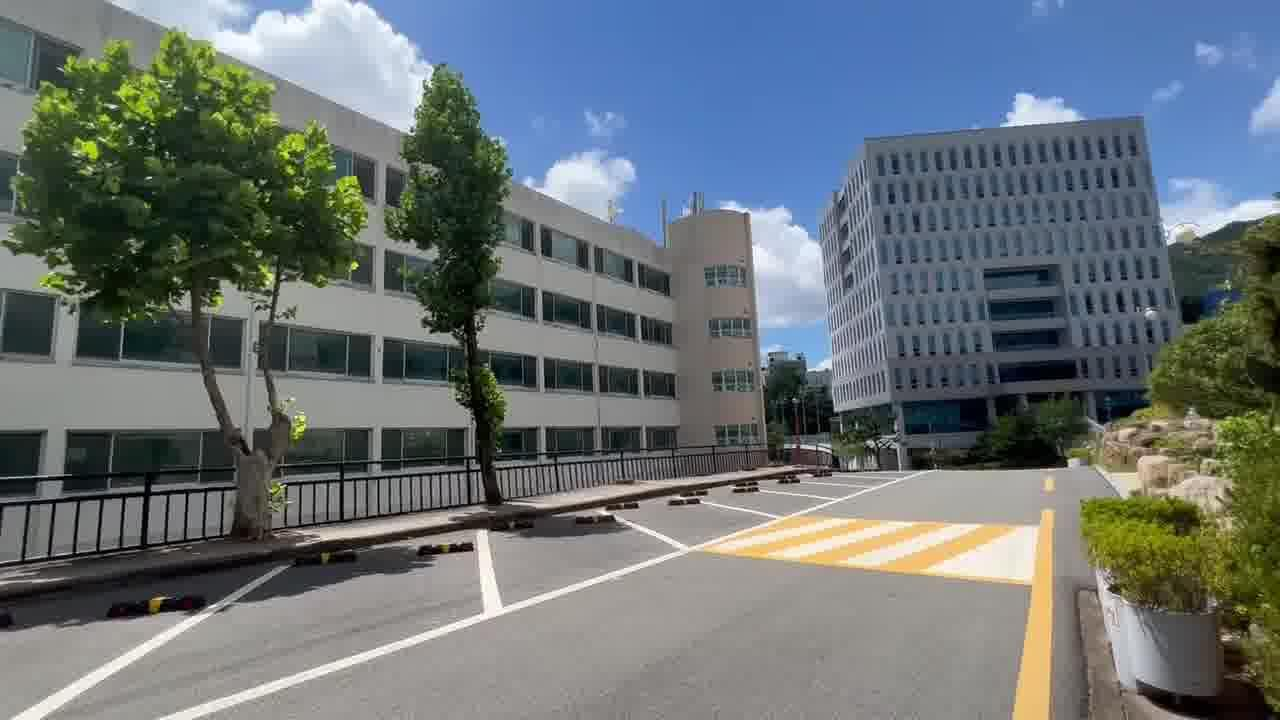building: (497, 177, 777, 454)
